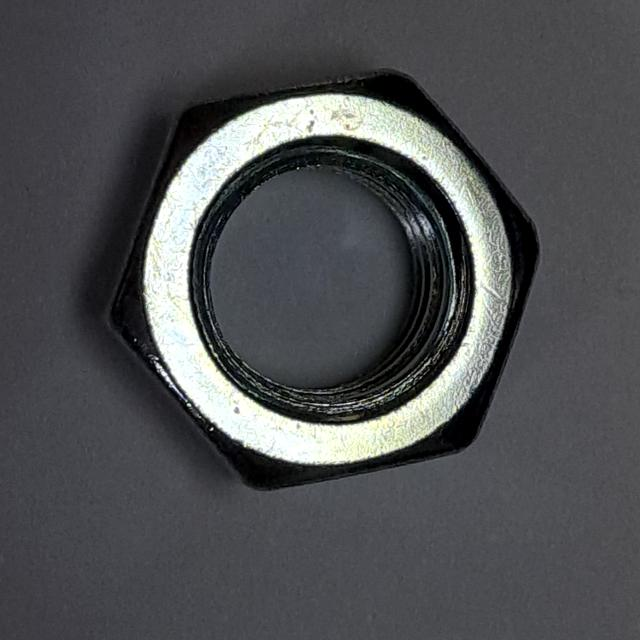Excellent: (81, 57, 552, 508)
